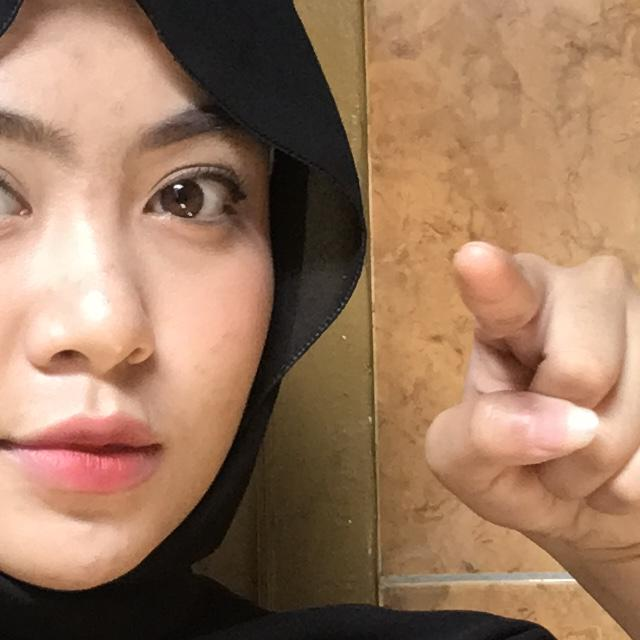kamu: (330, 136, 640, 640)
